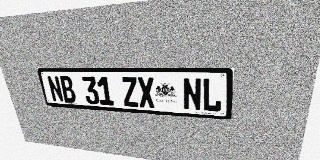1: (95, 76, 114, 106)
3: (81, 76, 100, 105)
B: (59, 76, 77, 103)
L: (202, 78, 223, 112)
N: (182, 78, 202, 111), (46, 76, 65, 102)
X: (137, 77, 156, 108)
Z: (121, 77, 139, 107)
